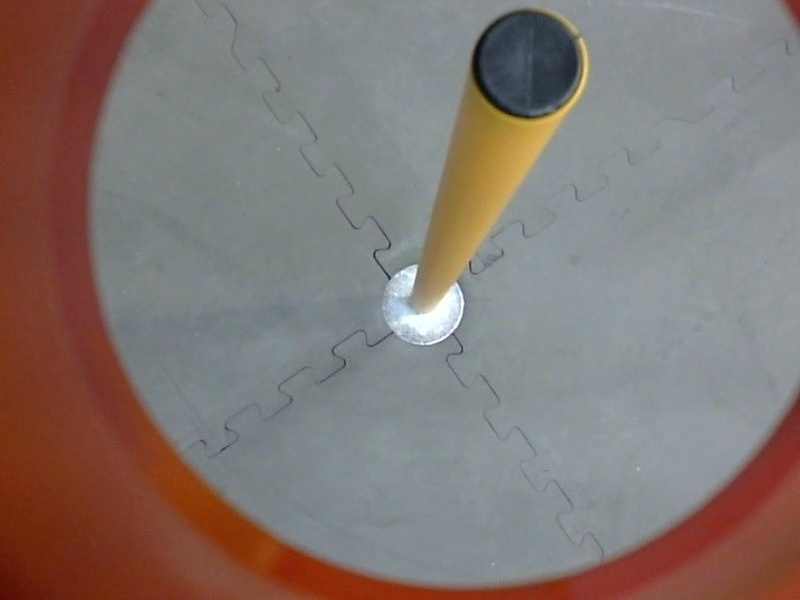tip: (458, 2, 599, 128)
